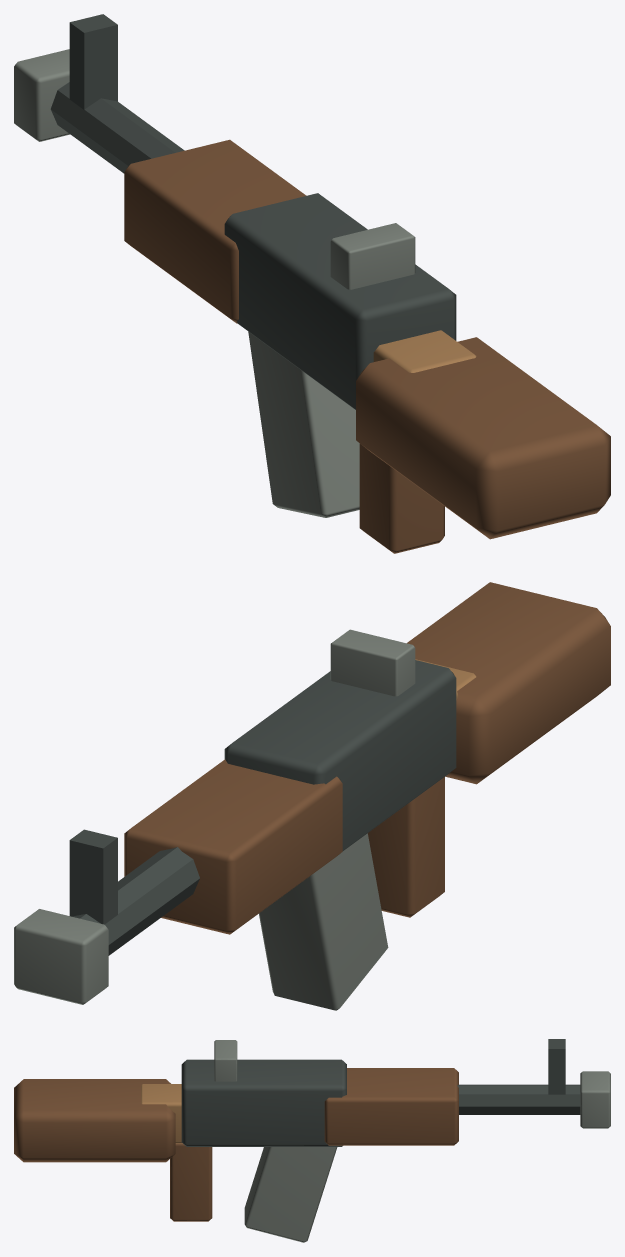
Rendered from rifle.glb.
The picture shows the model from 3 angles, top to bottom: view 1: azimuth 30°, elevation 25°; view 2: azimuth 150°, elevation 25°; view 3: azimuth 270°, elevation 25°; orthographic projection. The views are drawn at different scales.
Visible parts, largest first — view 1: butt stock, receiver, long vented handguard, swept magazine, grip, barrel, top rear sight, front sight, muzzle brake, stock neck; view 2: butt stock, long vented handguard, receiver, swept magazine, grip, muzzle brake, barrel, top rear sight, front sight; view 3: receiver, butt stock, long vented handguard, swept magazine, barrel, grip, muzzle brake, stock neck, front sight, top rear sight.
Part boxes in pixels (<box>): butt stock: <box>356,337,610,539</box>; receiver: <box>224,193,456,409</box>; long vented handguard: <box>124,139,306,323</box>; swept magazine: <box>248,331,359,517</box>; grip: <box>359,443,444,553</box>; barrel: <box>50,82,184,173</box>; top rear sight: <box>330,223,415,289</box>; front sight: <box>69,14,117,109</box>; muzzle brake: <box>14,49,70,141</box>; stock neck: <box>373,330,476,372</box>; butt stock: <box>407,582,610,784</box>; long vented handguard: <box>124,759,342,934</box>; receiver: <box>224,660,456,850</box>; swept magazine: <box>259,833,388,1010</box>; grip: <box>367,777,444,917</box>; muzzle brake: <box>14,909,108,1004</box>; barrel: <box>72,847,199,955</box>; top rear sight: <box>330,629,415,696</box>; front sight: <box>69,829,117,924</box>; receiver: <box>181,1059,346,1146</box>; butt stock: <box>14,1079,175,1162</box>; long vented handguard: <box>324,1068,458,1145</box>; swept magazine: <box>244,1147,337,1242</box>; barrel: <box>457,1084,580,1114</box>; grip: <box>170,1143,212,1221</box>; muzzle brake: <box>580,1071,610,1128</box>; stock neck: <box>141,1084,182,1143</box>; front sight: <box>548,1039,565,1094</box>; top rear sight: <box>214,1040,237,1081</box>.
Bounding box in the file's own units: 0.1728 × 0.3927 × 1.12.
